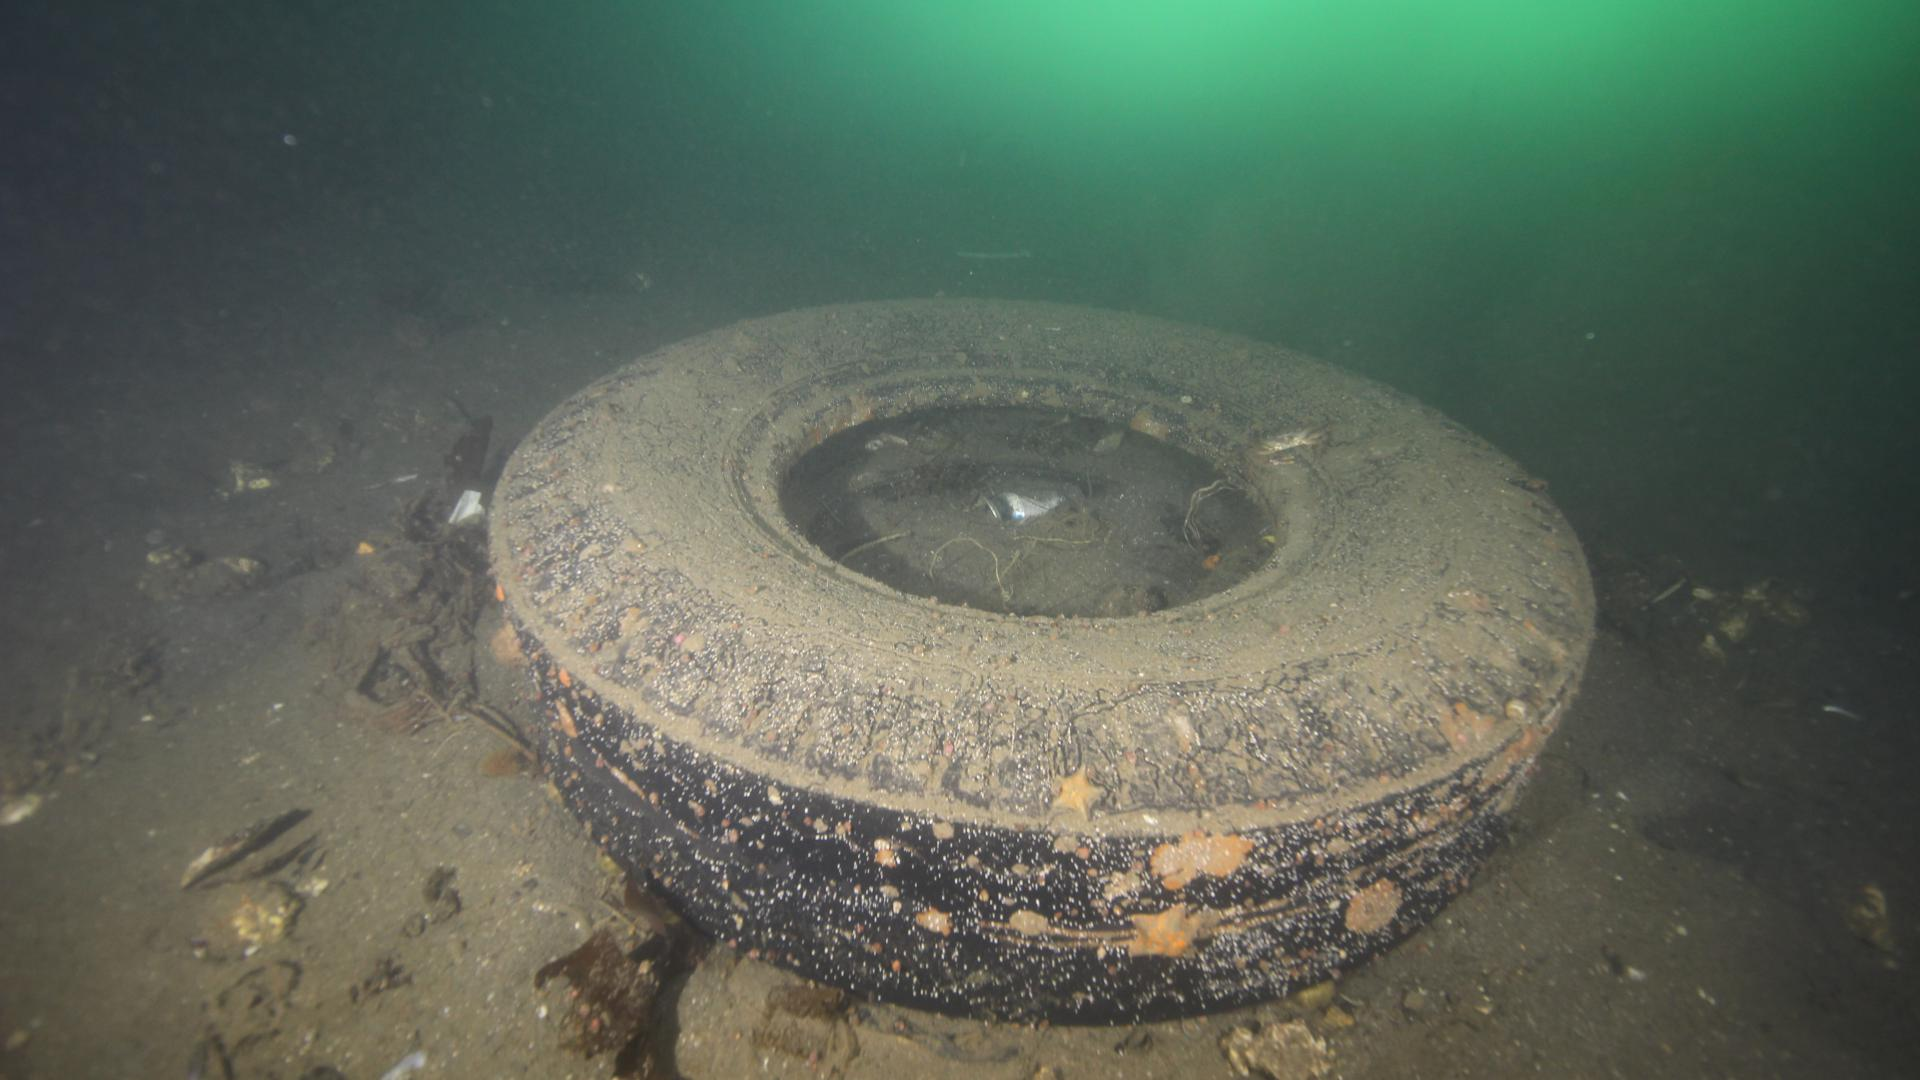tire: (480, 293, 1597, 1022)
